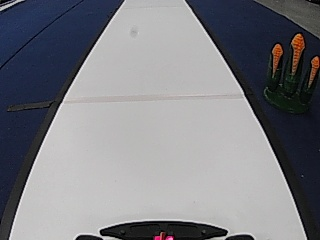corn: (261, 30, 318, 112)
